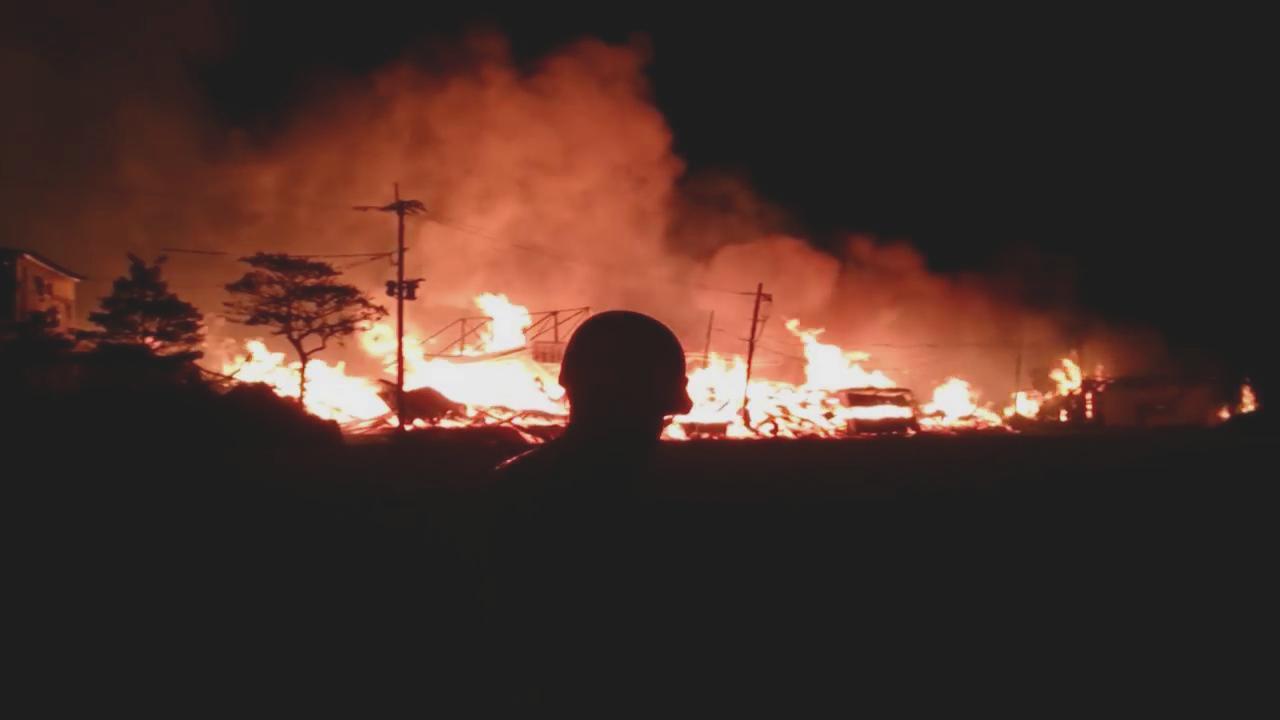Fire: (19, 36, 1143, 390), (217, 291, 565, 425), (690, 317, 1003, 439), (1049, 358, 1088, 395), (1218, 387, 1256, 419), (1005, 393, 1038, 418), (666, 421, 688, 440)
